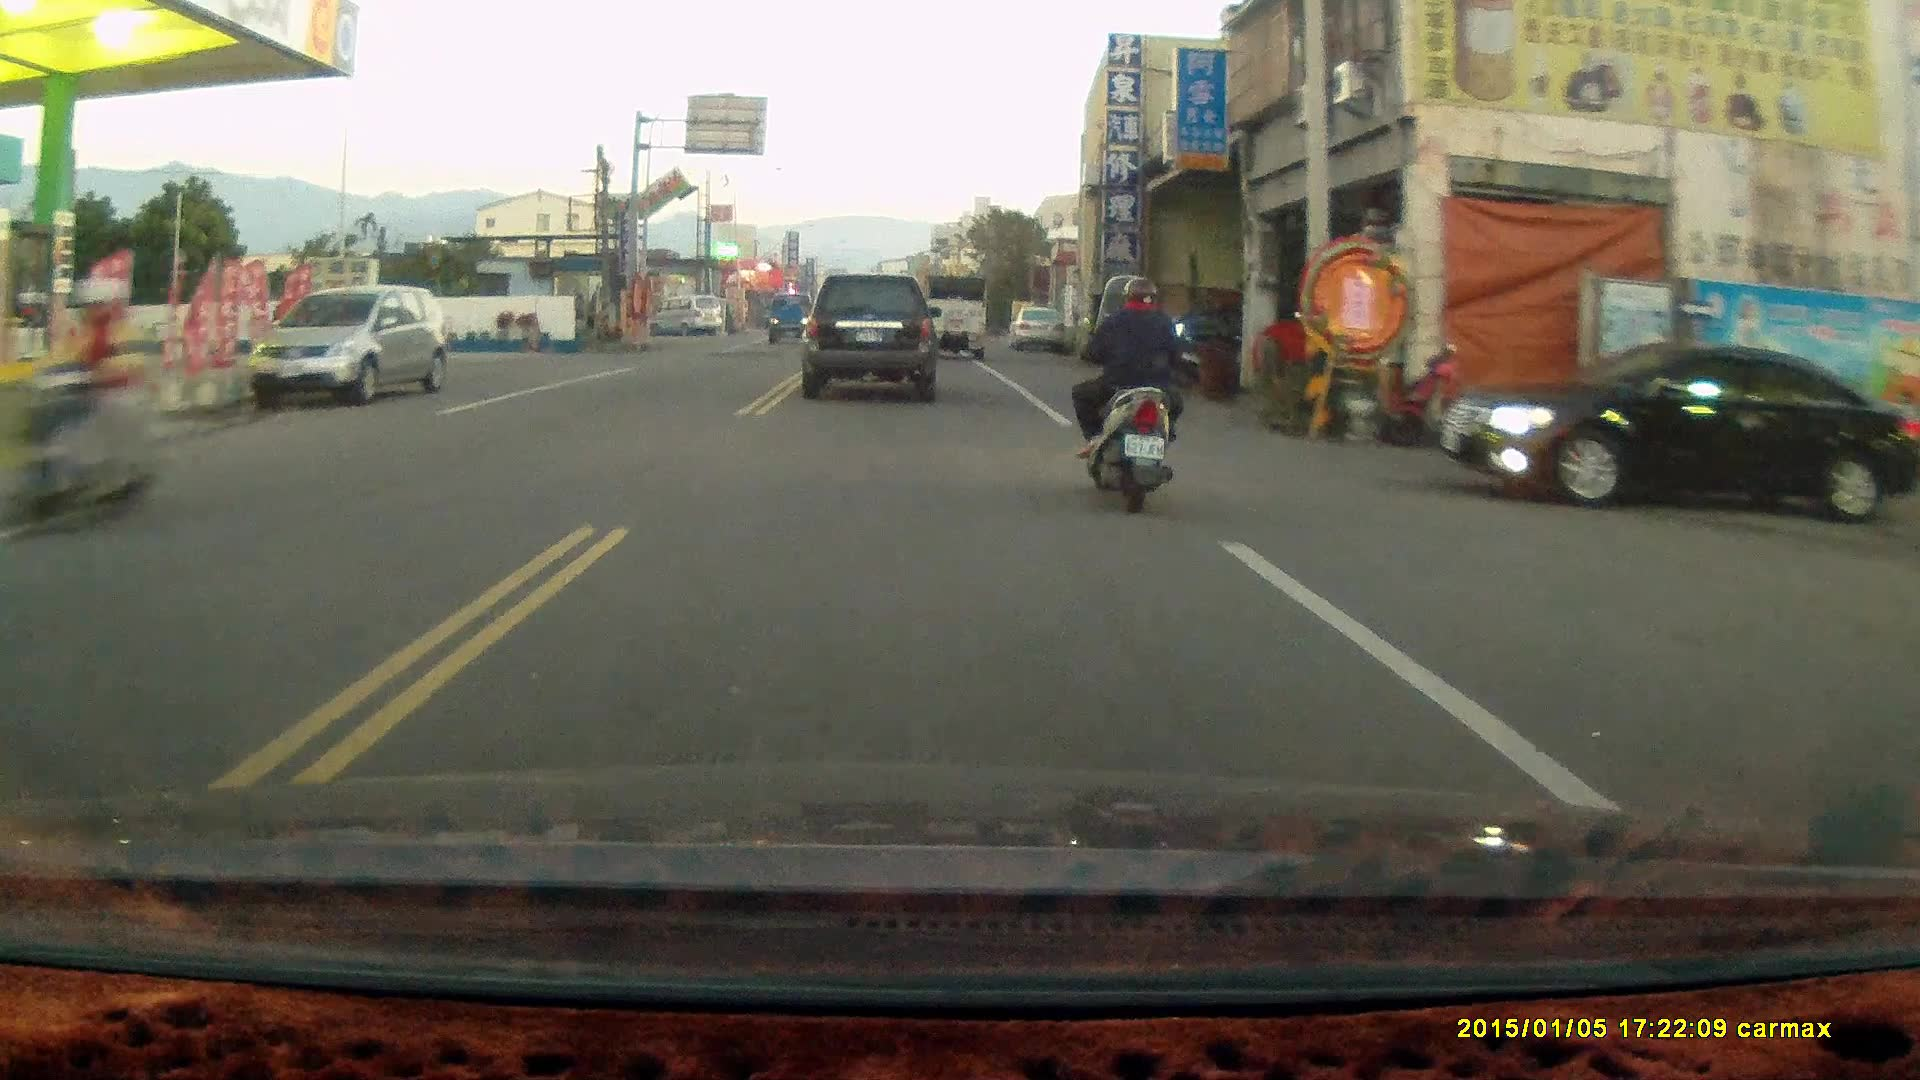rider: (0, 271, 170, 537), (1072, 268, 1183, 507)
vehicle: (1448, 336, 1893, 513), (243, 282, 448, 409), (802, 266, 947, 399), (922, 268, 990, 358), (648, 293, 725, 337), (1008, 306, 1068, 349)
